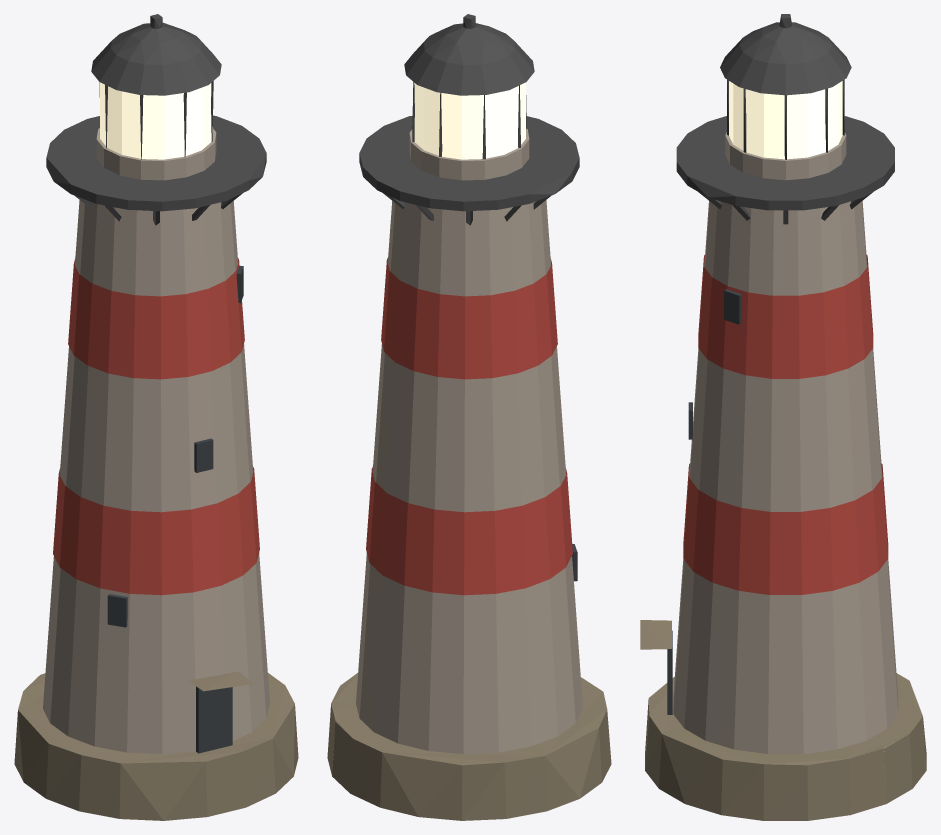
File: lighthouse-lod1.glb
3 views of the same model, side by side, from view 1: azimuth 30°, elevation 25°; view 2: azimuth 150°, elevation 25°; view 3: azimuth 270°, elevation 25° (orthographic).
Bounding box in the file's own units: 7.9 × 23.1 × 8.03.
